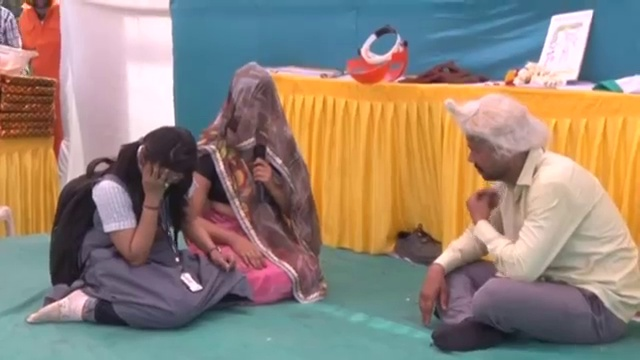helmet: (0, 45, 42, 75)
helmet_off: (450, 93, 543, 194), (223, 64, 282, 144), (125, 127, 196, 192)
person: (415, 87, 640, 338), (29, 121, 230, 318), (185, 64, 320, 307), (18, 0, 60, 78)
